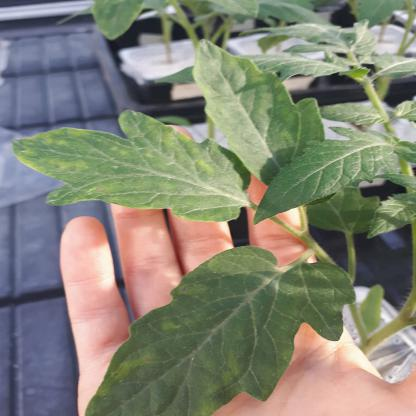Tomato mold leaf: (88, 241, 358, 414), (0, 104, 257, 216), (251, 127, 400, 233)
